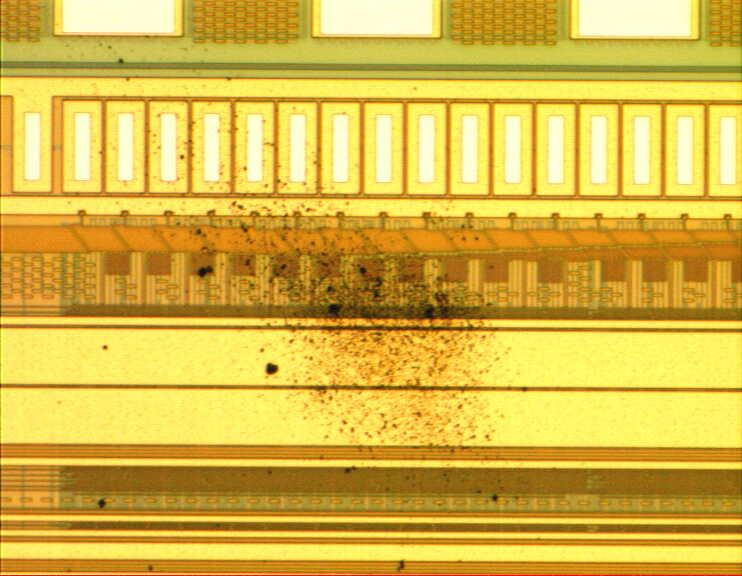PO CONTAMINATION: (63, 27, 531, 576)
